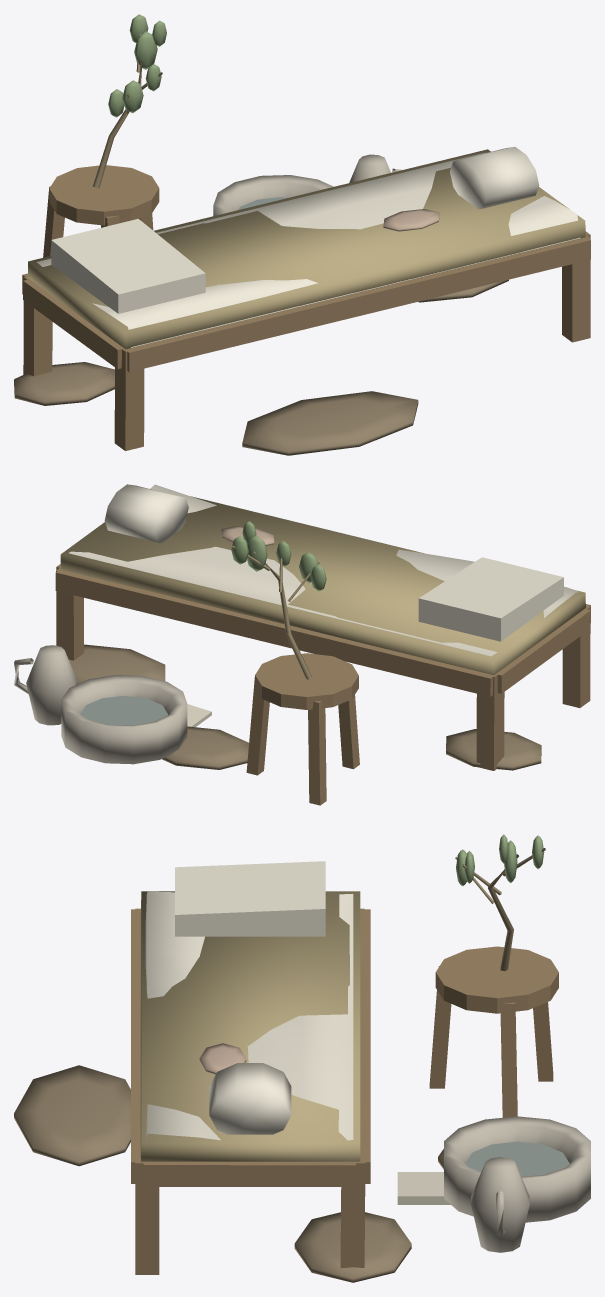
Rendered from leper_rest.glb.
3 renders of one model, top to bottom at view 1: azimuth 30°, elevation 25°; view 2: azimuth 150°, elevation 25°; view 3: azimuth 270°, elevation 25°, orthographic. The views are drawn at different scales.
Visible parts, largest first — view 1: Rest_Linen, Rest_CotFrame, Rest_Floor, Rest_StoolWillow, Rest_Wash; view 2: Rest_Linen, Rest_CotFrame, Rest_Wash, Rest_StoolWillow, Rest_Floor; view 3: Rest_Linen, Rest_Wash, Rest_CotFrame, Rest_Floor, Rest_StoolWillow.
Boxes of the visible parts, box(x1,y1,x2,y2) form: Rest_Linen: box(28, 147, 585, 349); Rest_CotFrame: box(22, 231, 590, 450); Rest_Floor: box(14, 279, 508, 455); Rest_StoolWillow: box(43, 14, 166, 257); Rest_Wash: box(213, 154, 401, 215); Rest_Linen: box(60, 484, 585, 675); Rest_CotFrame: box(55, 564, 590, 770); Rest_Wash: box(14, 645, 211, 764); Rest_StoolWillow: box(231, 521, 359, 805); Rest_Floor: box(69, 644, 541, 770); Rest_Linen: box(140, 861, 360, 1161); Rest_Wash: box(397, 1116, 590, 1252); Rest_CotFrame: box(131, 908, 370, 1274); Rest_Floor: box(14, 1065, 443, 1282); Rest_StoolWillow: box(429, 834, 558, 1117).
Size of the model in its own units: 1.93 by 0.9492 by 1.68.
